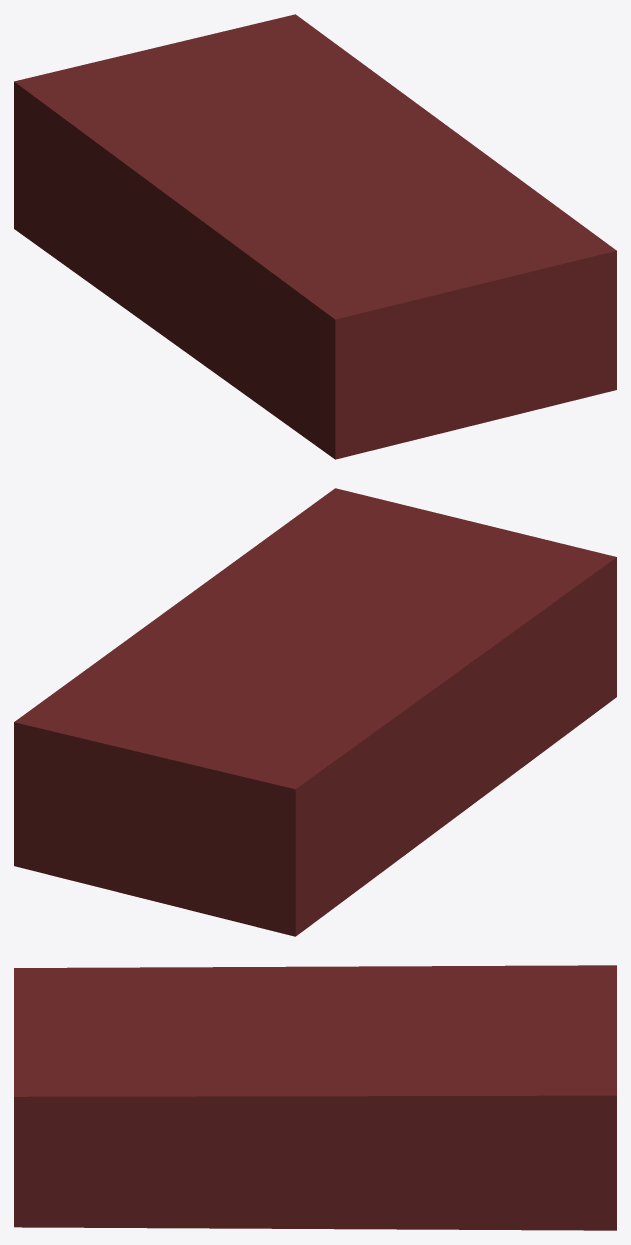
The model's file is FAS.glb.
3 views of the same model, one above another, from view 1: azimuth 30°, elevation 25°; view 2: azimuth 150°, elevation 25°; view 3: azimuth 270°, elevation 25° (orthographic). The views are drawn at different scales.
Visible parts, largest first — view 1: FAS; view 2: FAS; view 3: FAS.
Part boxes in pixels (box(x1,y1,x2,y2)): FAS: box(14, 14, 616, 459); FAS: box(14, 488, 616, 936); FAS: box(14, 965, 616, 1230).
Size of the model in its own units: 0.1223 by 0.0624 by 0.2416.
